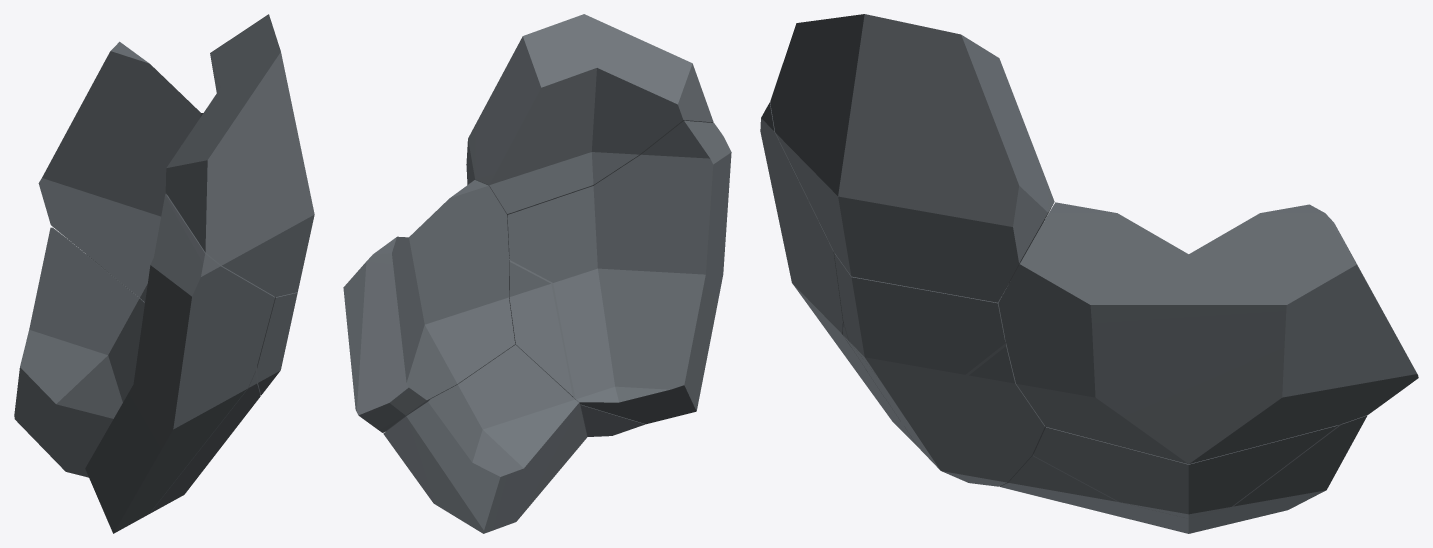
The model's file is Sphere_Fracture_07.DAE.
3 renders of one model, left to right at view 1: azimuth 30°, elevation 25°; view 2: azimuth 150°, elevation 25°; view 3: azimuth 270°, elevation 25°, orthographic. The views are drawn at different scales.
Parts seen in each view (by area): view 1: Sphere_Fracture_07; view 2: Sphere_Fracture_07; view 3: Sphere_Fracture_07.
Part boxes in pixels (bbox=[...]): Sphere_Fracture_07: bbox=[14, 14, 314, 533]; Sphere_Fracture_07: bbox=[343, 14, 731, 533]; Sphere_Fracture_07: bbox=[760, 14, 1418, 533].
Bounding box in the file's own units: 0.7542 × 1.46 × 1.57.
2 materials, 2 textured.
